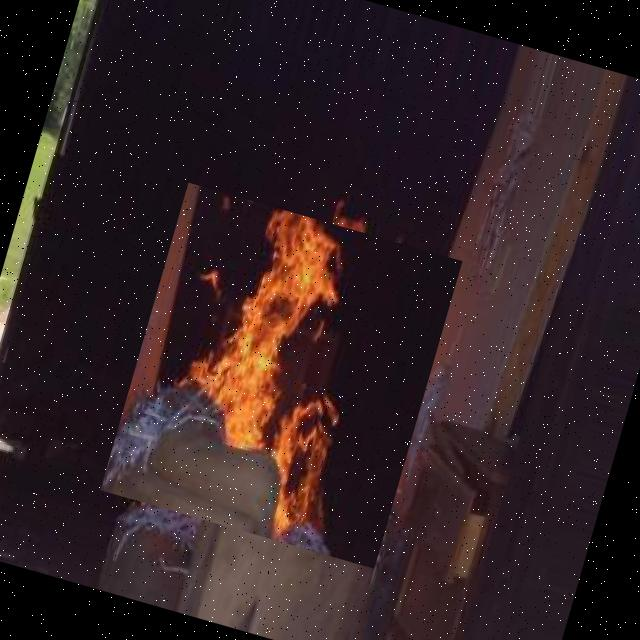fire: (100, 182, 462, 568)
